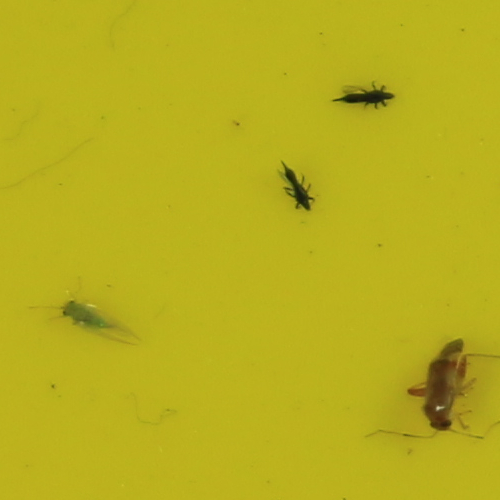Glycaspis: (61, 297, 115, 329)
